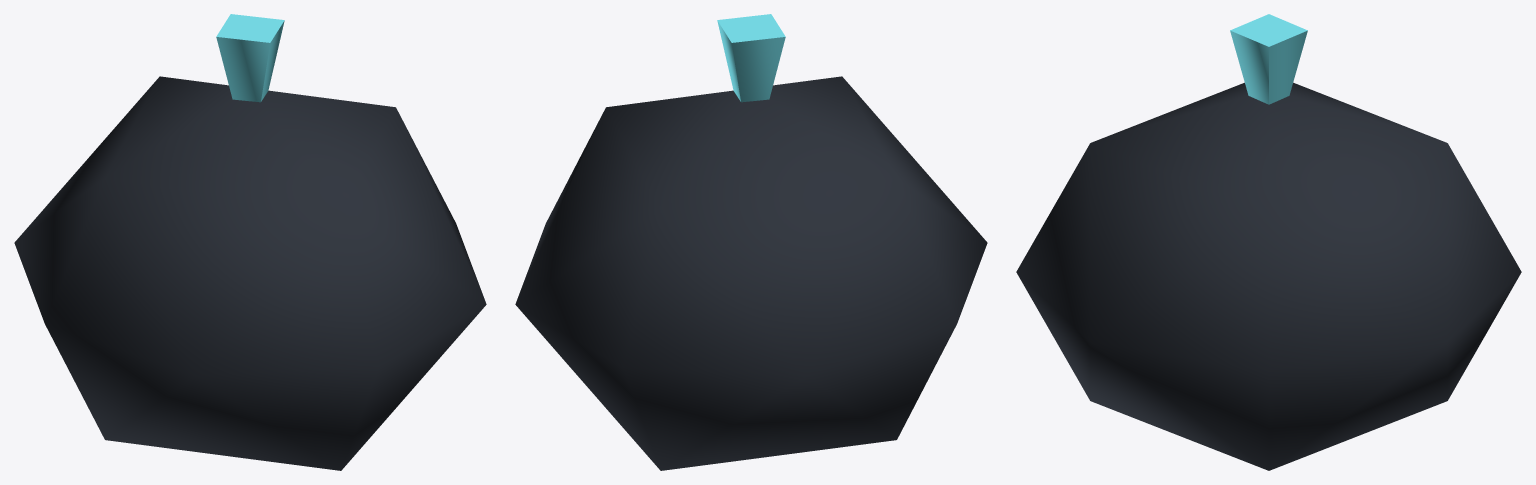
The model's file is player-stealth.gltf.
The picture shows the model from 3 angles, left to right: view 1: azimuth 30°, elevation 25°; view 2: azimuth 150°, elevation 25°; view 3: azimuth 270°, elevation 25°; orthographic projection.
Bounding box in the file's own units: 2.16 × 2.16 × 2.33.
